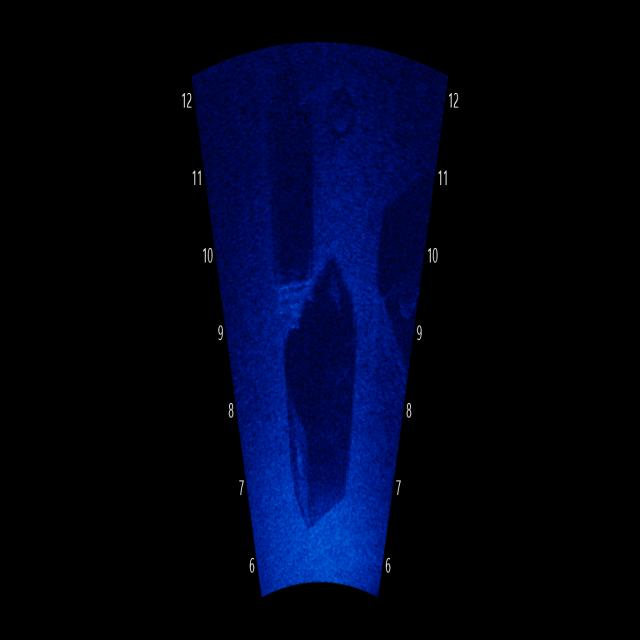square: (281, 297, 376, 549), (260, 94, 336, 297)
